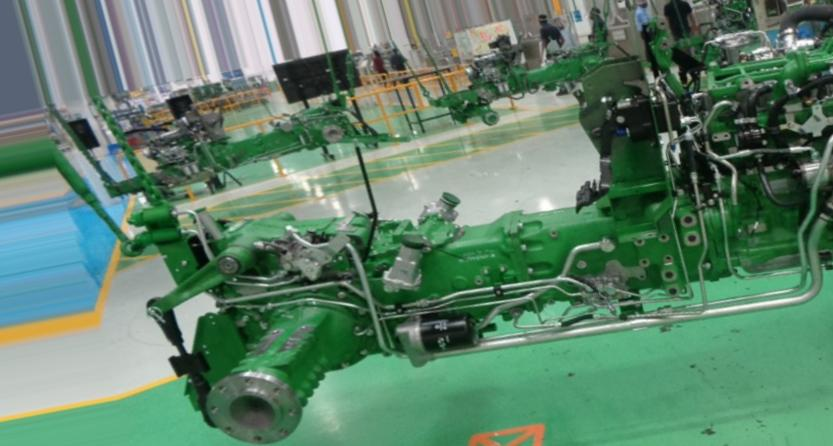engine: (118, 13, 833, 446)
